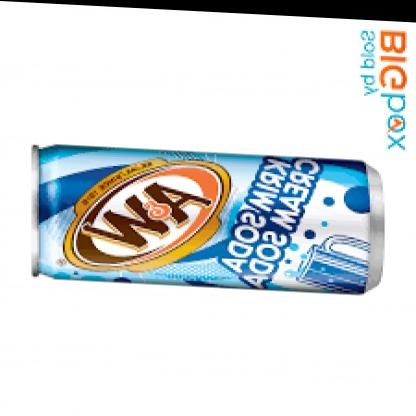trash: (34, 146, 383, 292)
